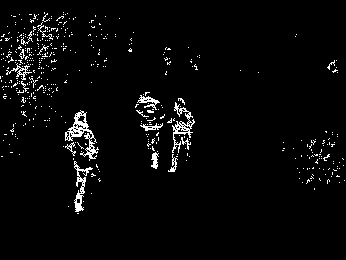person: (62, 108, 101, 215), (134, 90, 165, 169), (167, 95, 195, 174)
